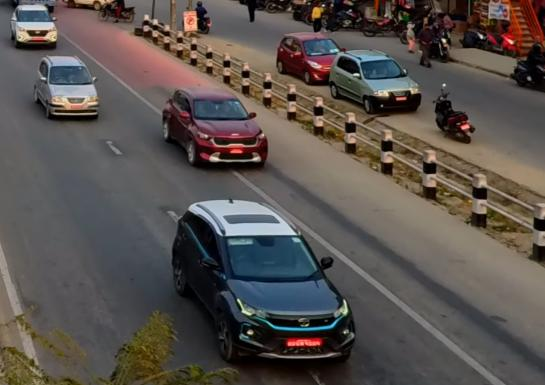bike: (97, 3, 139, 26)
car: (171, 197, 362, 365), (155, 75, 277, 177), (326, 48, 424, 119), (33, 55, 112, 129), (275, 29, 344, 85), (8, 4, 59, 49)
scooter: (432, 83, 477, 148)
